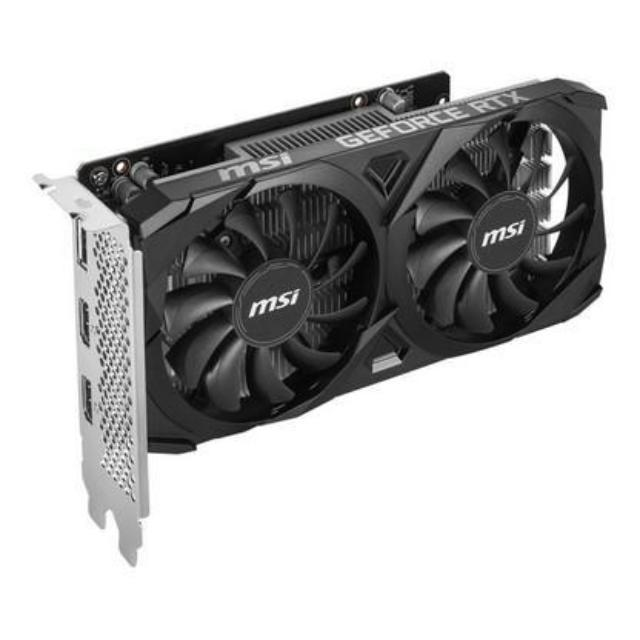GPU: (72, 68, 610, 454)
